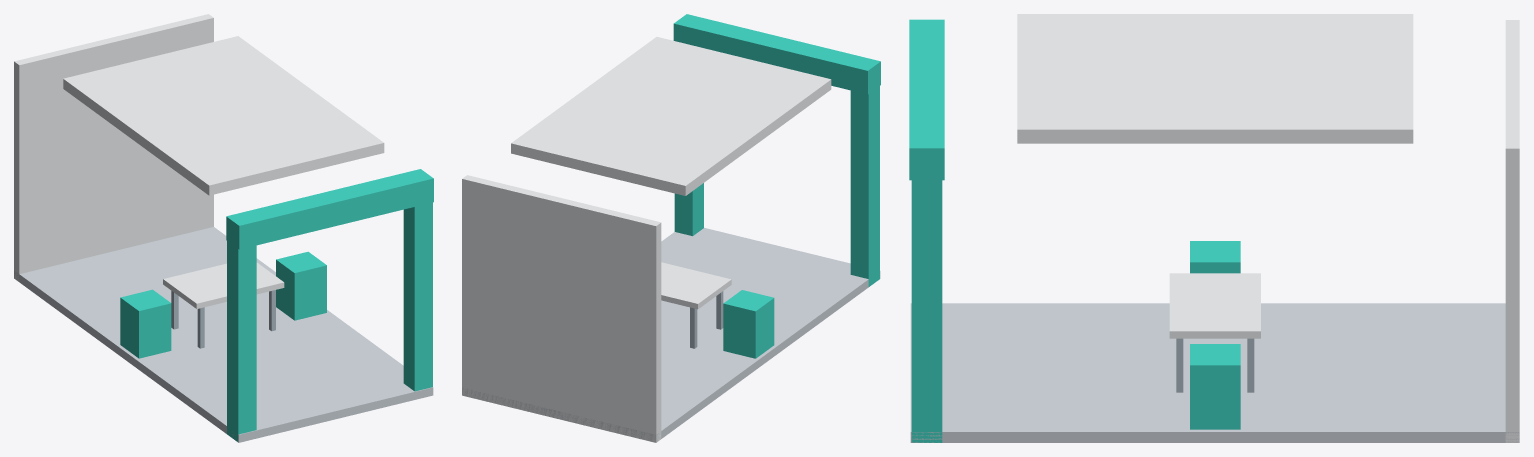
3 views of the same model, side by side, from view 1: azimuth 30°, elevation 25°; view 2: azimuth 150°, elevation 25°; view 3: azimuth 270°, elevation 25° (orthographic). The views are drawn at different scales.
Parts seen in each view (by area): view 1: Exhibition Booth Concept; view 2: Exhibition Booth Concept; view 3: Exhibition Booth Concept.
Part boxes in pixels (x1,y1,x2,y2): Exhibition Booth Concept: (14,14,433,442); Exhibition Booth Concept: (462,14,880,442); Exhibition Booth Concept: (909,14,1519,442).
Bounding box in the file's own units: 3 × 3.34 × 6.02.
